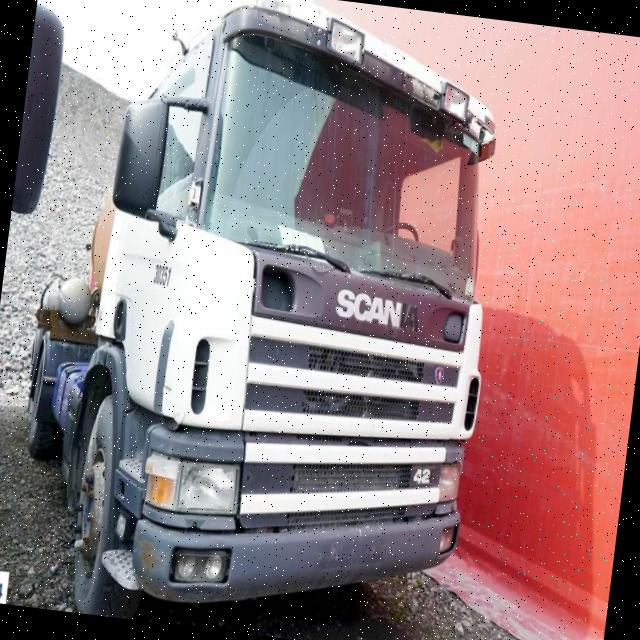Mixer Truck: (0, 0, 525, 640)
